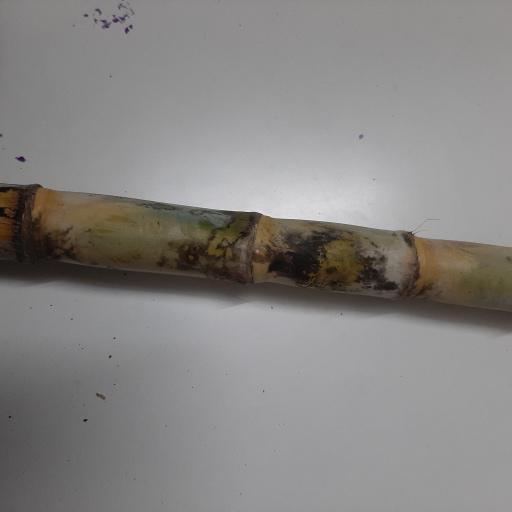Bud: (251, 245, 270, 262)
